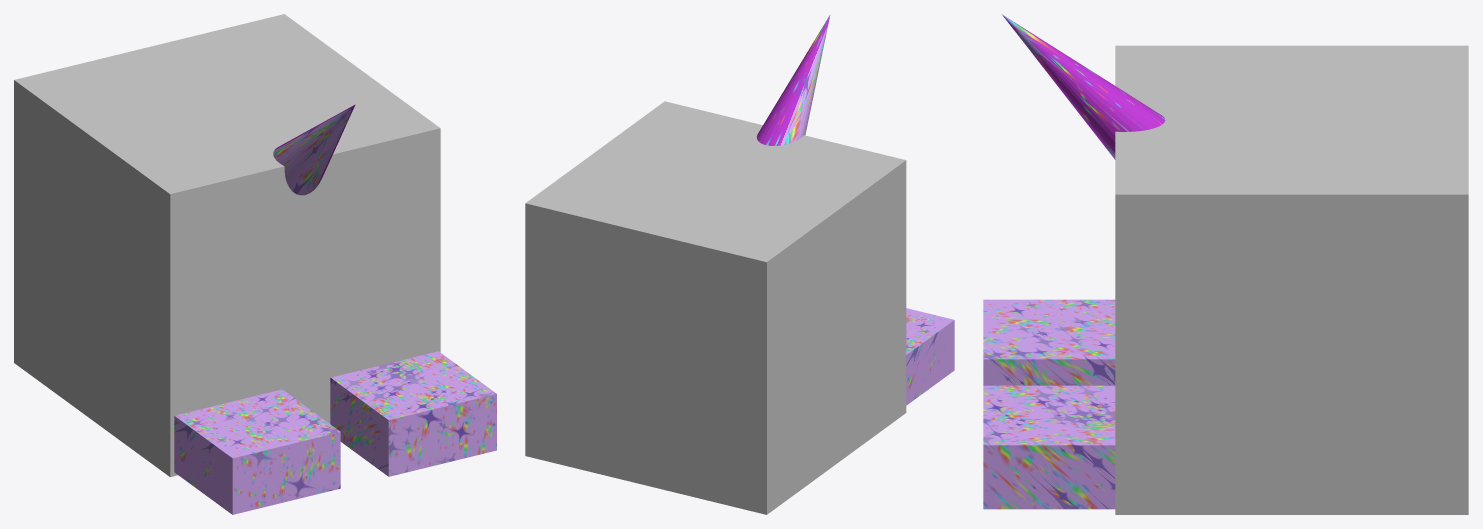
The model's file is newPlayer.obj.
3 views of the same model, side by side, from view 1: azimuth 30°, elevation 25°; view 2: azimuth 150°, elevation 25°; view 3: azimuth 270°, elevation 25° (orthographic). The views are drawn at different scales.
Visible parts, largest first — view 1: 円錐; view 2: 円錐; view 3: 円錐.
Part boxes in pixels (left/top/right/bottom): 円錐: left=14, top=14, right=496, bottom=514; 円錐: left=525, top=15, right=954, bottom=514; 円錐: left=983, top=14, right=1468, bottom=514.
Bounding box in the file's own units: 0.5 × 0.6658 × 0.6867.
Materials: 2 (1 with a texture image).
